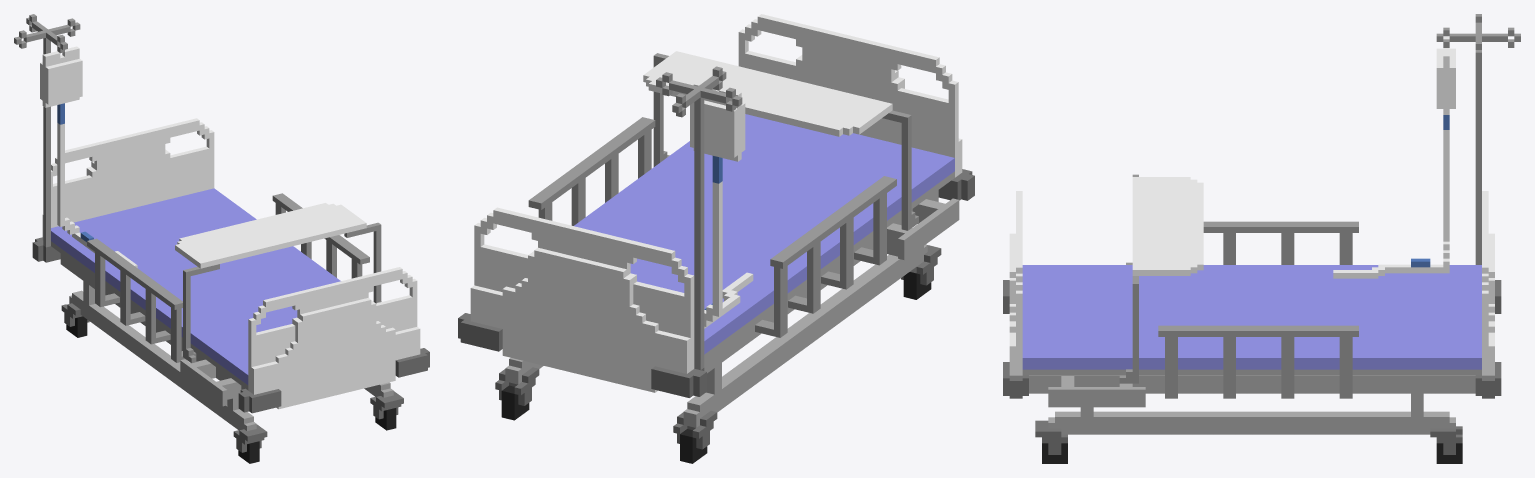
The model's file is Operating_room_bed2-3.fbx.
3 renders of one model, left to right at view 1: azimuth 30°, elevation 25°; view 2: azimuth 150°, elevation 25°; view 3: azimuth 270°, elevation 25°, orthographic. The views are drawn at different scales.
Visible parts, largest first — view 1: Operating room bed2-3.003, Operating room bed2-3.006, Operating room bed2-3.002, Operating room bed2-3.001; view 2: Operating room bed2-3.003, Operating room bed2-3.006, Operating room bed2-3.002, Operating room bed2-3.001; view 3: Operating room bed2-3.003, Operating room bed2-3.006, Operating room bed2-3.001, Operating room bed2-3.002.
Boxes of the visible parts, box(x1,y1,x2,y2) form: Operating room bed2-3.003: box(14, 14, 429, 463); Operating room bed2-3.006: box(175, 203, 381, 348); Operating room bed2-3.002: box(40, 46, 82, 107); Operating room bed2-3.001: box(57, 123, 137, 267); Operating room bed2-3.003: box(458, 14, 974, 463); Operating room bed2-3.006: box(643, 51, 911, 217); Operating room bed2-3.002: box(690, 81, 745, 161); Operating room bed2-3.001: box(704, 181, 753, 328); Operating room bed2-3.003: box(1003, 14, 1520, 463); Operating room bed2-3.006: box(1132, 174, 1203, 371); Operating room bed2-3.001: box(1333, 130, 1449, 278); Operating room bed2-3.002: box(1436, 37, 1455, 114).
Size of the model in its own units: 4.4 by 5.9 by 8.
